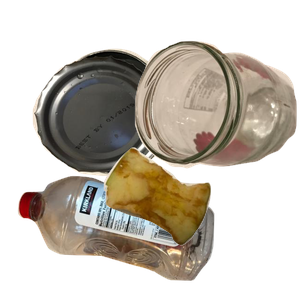glass: (132, 38, 300, 199)
metal: (30, 46, 205, 215)
plastic: (15, 173, 222, 300)
trash: (101, 145, 300, 300)
